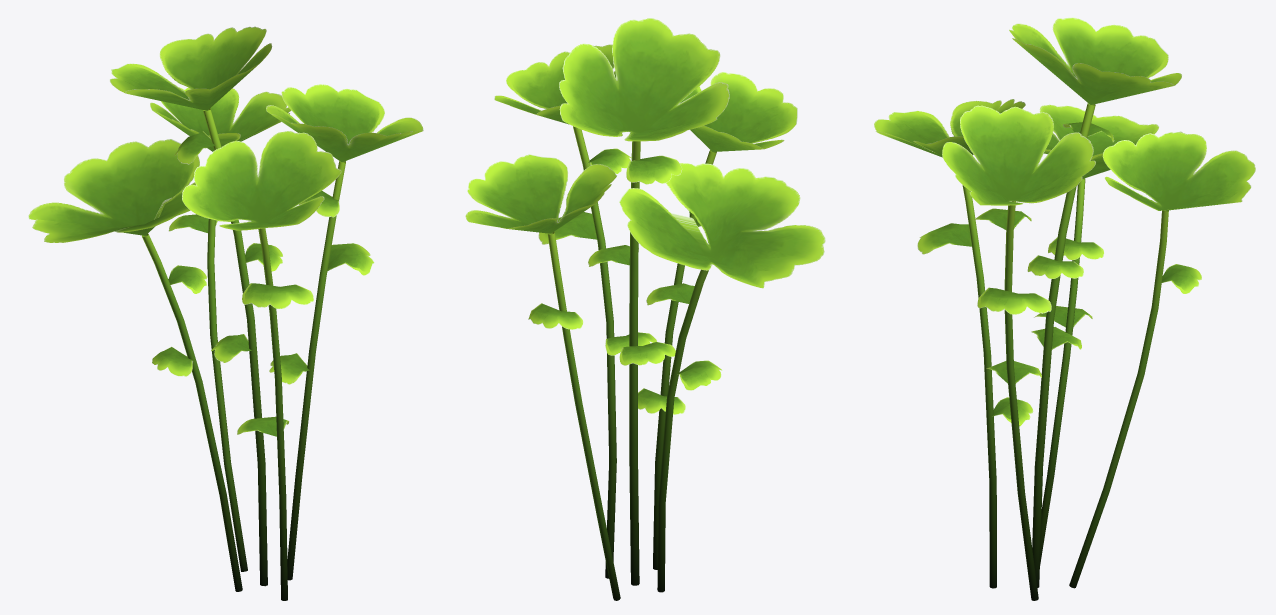
Rendered from Clover_2.glb.
3 renders of one model, left to right at view 1: azimuth 30°, elevation 25°; view 2: azimuth 150°, elevation 25°; view 3: azimuth 270°, elevation 25°, orthographic. The views are drawn at different scales.
Visible parts, largest first — view 1: Clover_2; view 2: Clover_2; view 3: Clover_2.
Part boxes in pixels (box(x1,y1,x2,y2)): Clover_2: box(28, 26, 423, 600); Clover_2: box(465, 18, 825, 600); Clover_2: box(874, 17, 1255, 600).
Size of the model in its own units: 0.8511 by 1.26 by 0.8366.
1 material, 1 textured.
